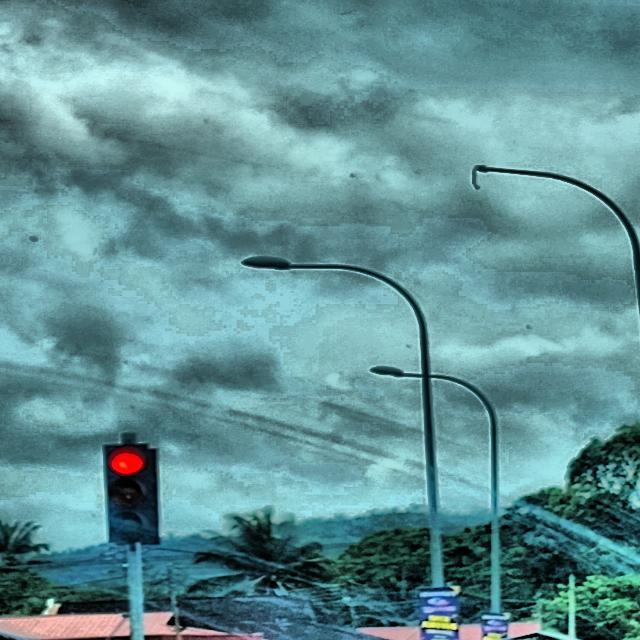red: (103, 444, 159, 543)
